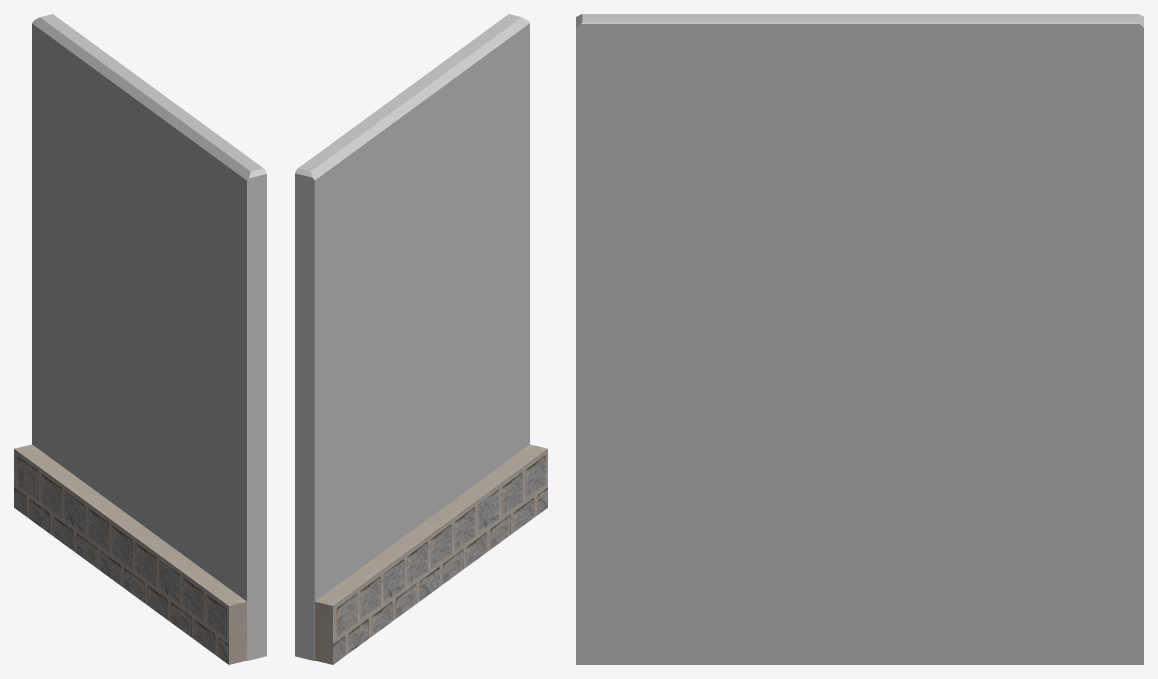
File: SM_GSB_WallB.fbx
3 renders of one model, left to right at view 1: azimuth 30°, elevation 25°; view 2: azimuth 150°, elevation 25°; view 3: azimuth 270°, elevation 25°, orthographic. The views are drawn at different scales.
Parts seen in each view (by area): view 1: SM_GSB_WallB_ConvexHulls, SM_GSB_WallB; view 2: SM_GSB_WallB_ConvexHulls, SM_GSB_WallB; view 3: SM_GSB_WallB_ConvexHulls.
Part boxes in pixels (x1,y1,x2,y2): SM_GSB_WallB_ConvexHulls: (32, 14, 266, 660); SM_GSB_WallB: (14, 444, 246, 664); SM_GSB_WallB_ConvexHulls: (295, 14, 529, 660); SM_GSB_WallB: (315, 444, 547, 664); SM_GSB_WallB_ConvexHulls: (576, 14, 1143, 664).
Bounding box in the file's own units: 24.95 × 246 × 307.
Materials: 4 (3 with a texture image).
